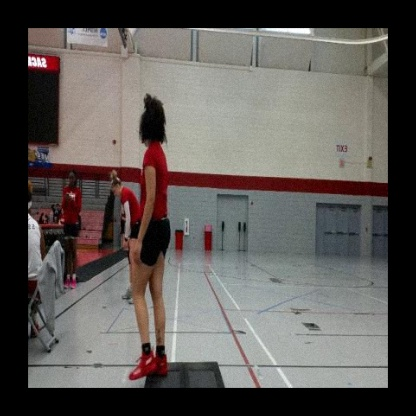lateral_flexion_normal: (124, 96, 171, 384)
stance_width_broad: (125, 144, 171, 382)
